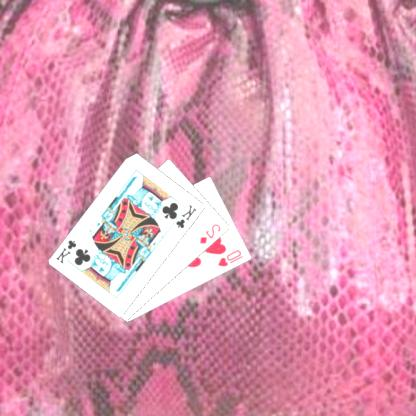10H: (216, 247, 246, 268)
2D: (199, 221, 224, 245)
KC: (55, 237, 86, 265), (170, 202, 200, 230)
